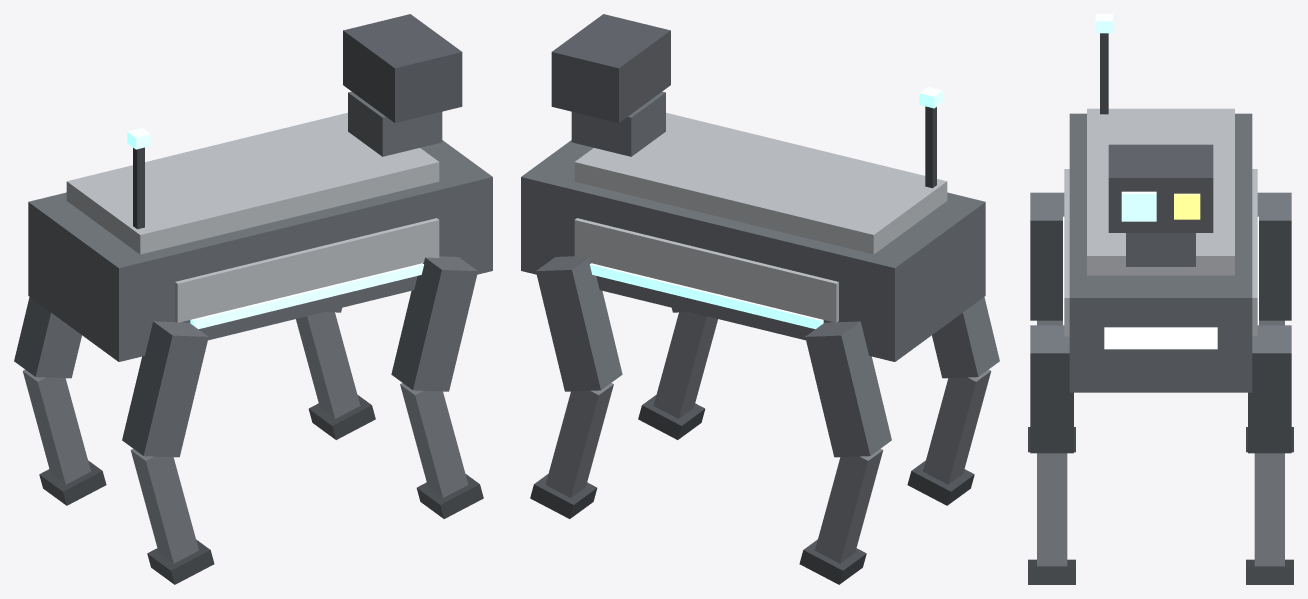
Rendered from robot-quadrupede.glb.
3 views of the same model, side by side, from view 1: azimuth 30°, elevation 25°; view 2: azimuth 150°, elevation 25°; view 3: azimuth 270°, elevation 25° (orthographic).
Visible parts, largest first — view 1: corps, capot, flanc_g, tete, hip_RG, hip_AG, knee_AG, knee_RG, knee_RD, knee_AD, hip_RD, tourelle (+6 smaller); view 2: corps, capot, flanc_d, tete, hip_RD, hip_AD, knee_AD, knee_RD, knee_RG, knee_AG, hip_RG, tourelle (+6 smaller); view 3: corps, capot, tete, hip_AG, hip_AD, hip_RG, hip_RD, knee_AG, knee_AD, phares, tourelle, objectif (+7 smaller).
Boxes of the visible parts, left/top/right/bottom form: corps: left=28, top=140, right=492, bottom=361; capot: left=66, top=112, right=439, bottom=254; flanc_g: left=175, top=218, right=439, bottom=322; tete: left=343, top=14, right=462, bottom=122; hip_RG: left=122, top=321, right=208, bottom=457; hip_AG: left=391, top=256, right=477, bottom=391; knee_AG: left=400, top=383, right=468, bottom=497; knee_RG: left=130, top=448, right=198, bottom=563; knee_RD: left=22, top=369, right=90, bottom=484; knee_AD: left=296, top=312, right=360, bottom=418; hip_RD: left=14, top=297, right=81, bottom=378; tourelle: left=348, top=91, right=442, bottom=156; corps: left=521, top=140, right=985, bottom=361; capot: left=574, top=112, right=947, bottom=254; flanc_d: left=574, top=218, right=838, bottom=322; tete: left=551, top=14, right=670, bottom=122; hip_RD: left=805, top=321, right=891, bottom=457; hip_AD: left=536, top=256, right=622, bottom=391; knee_AD: left=545, top=383, right=613, bottom=497; knee_RD: left=815, top=448, right=883, bottom=563; knee_RG: left=923, top=369, right=991, bottom=484; knee_AG: left=653, top=312, right=717, bottom=418; hip_RG: left=932, top=297, right=999, bottom=378; tourelle: left=571, top=91, right=665, bottom=156; corps: left=1069, top=113, right=1252, bottom=392; capot: left=1087, top=108, right=1234, bottom=275; tete: left=1108, top=144, right=1213, bottom=232; hip_AG: left=1030, top=325, right=1073, bottom=453; hip_AD: left=1248, top=325, right=1291, bottom=453; hip_RG: left=1030, top=192, right=1064, bottom=320; hip_RD: left=1257, top=192, right=1291, bottom=320; knee_AG: left=1037, top=453, right=1067, bottom=566; knee_AD: left=1254, top=453, right=1284, bottom=566; phares: left=1104, top=327, right=1217, bottom=349; tourelle: left=1126, top=233, right=1195, bottom=266; objectif: left=1121, top=191, right=1156, bottom=221.
Size of the model in its own units: 1.01 by 1.08 by 0.61.
